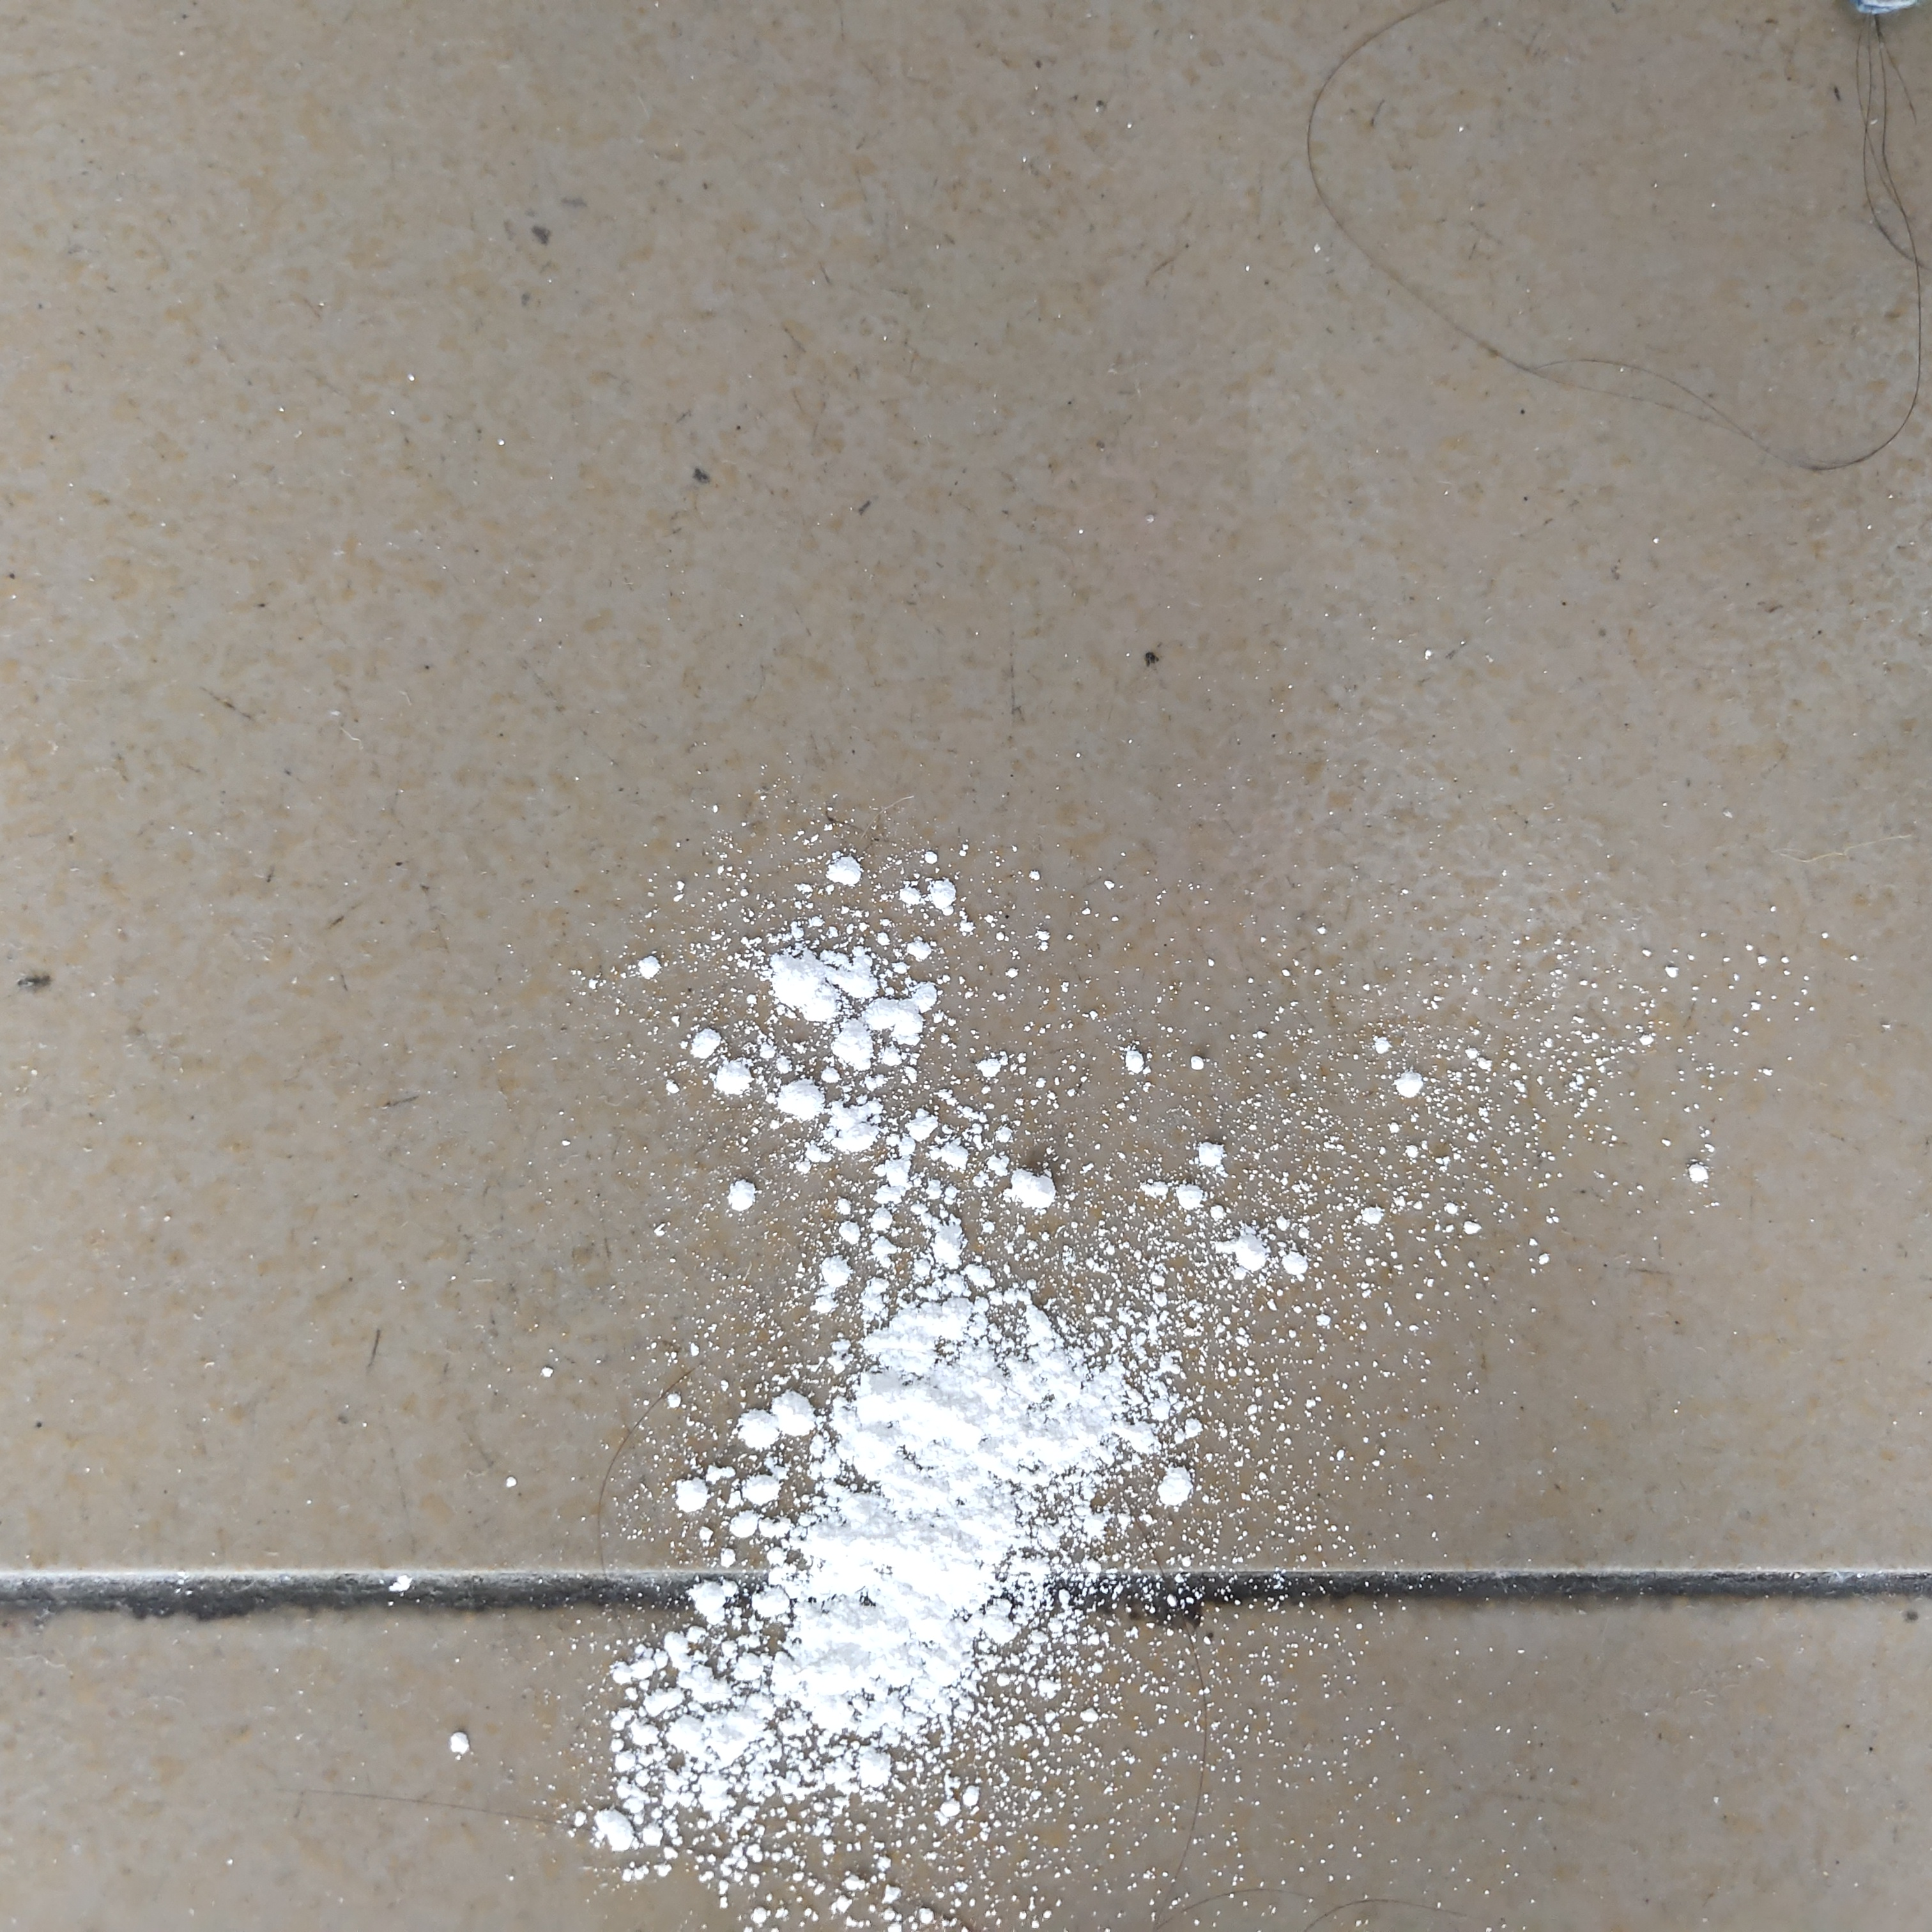ash pile: (518, 782, 1867, 1932)
